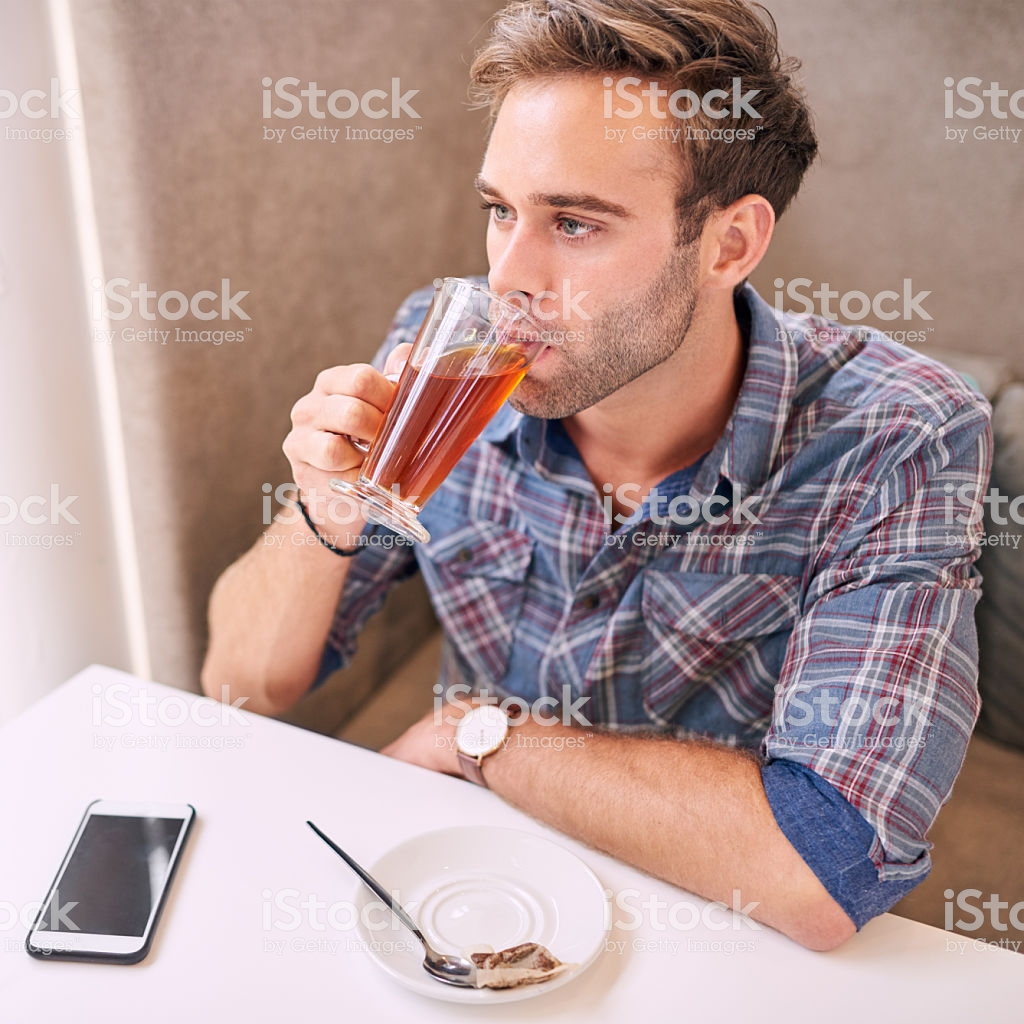drinking: (310, 19, 852, 699)
